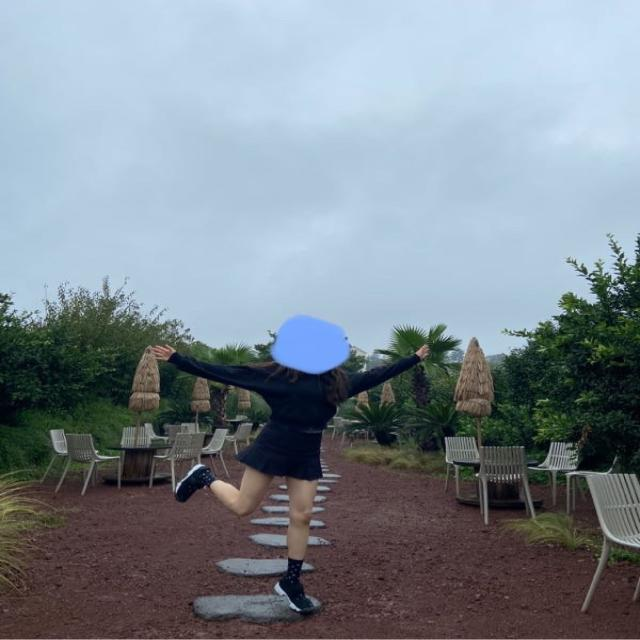longsleeve: (169, 349, 420, 432)
skirt: (236, 422, 327, 480)
